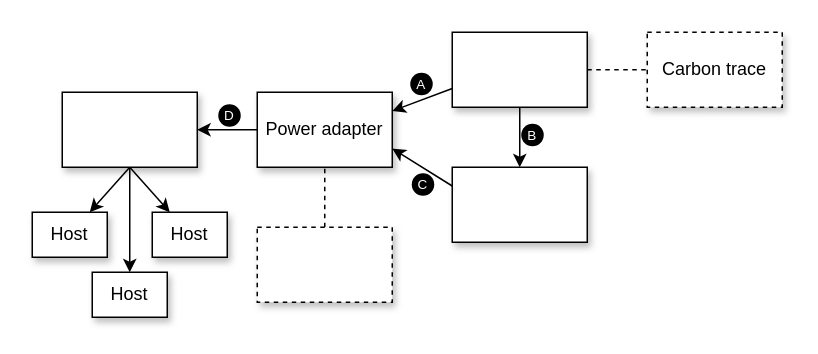
The diagram is 818 pixels wide and 354 high, and some of its shapes have lost their labels. Each missing label, with the centre of its shape:
Battery: (520,206)
Carbon policy: (325,266)
Multiplexer: (130,131)
Power supply: (520,71)
